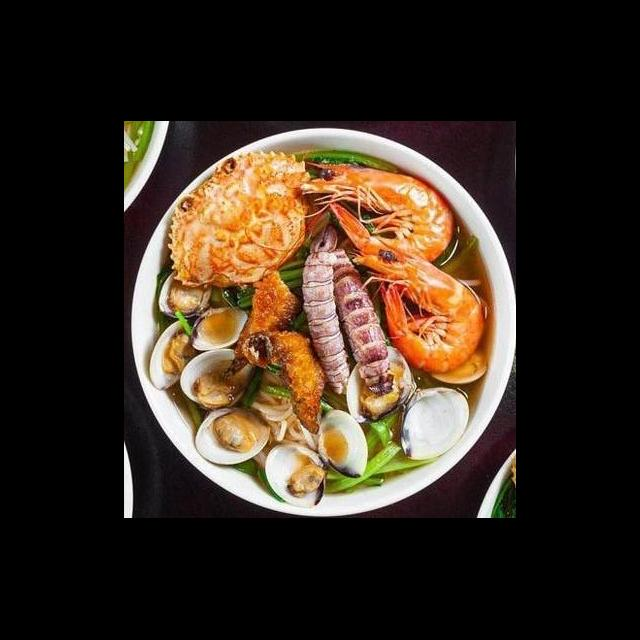bun: (247, 370, 325, 458)
bun hai san: (128, 149, 502, 517)
ca: (218, 264, 304, 386), (240, 323, 331, 438)
tom: (341, 236, 491, 378), (289, 157, 459, 270)
tom tit: (324, 242, 398, 400), (298, 218, 357, 400)
